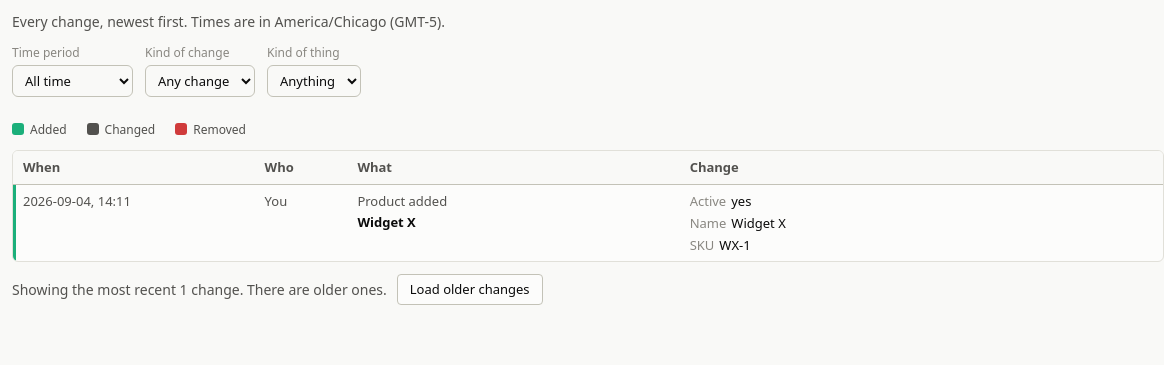
Scenario: the screen never misrepresents how much of the log it is showing › offers older changes when there are more, and fetches them from the last id
Click the button "Load older changes" at (470, 290), box left=397, top=274, right=543, bottom=305
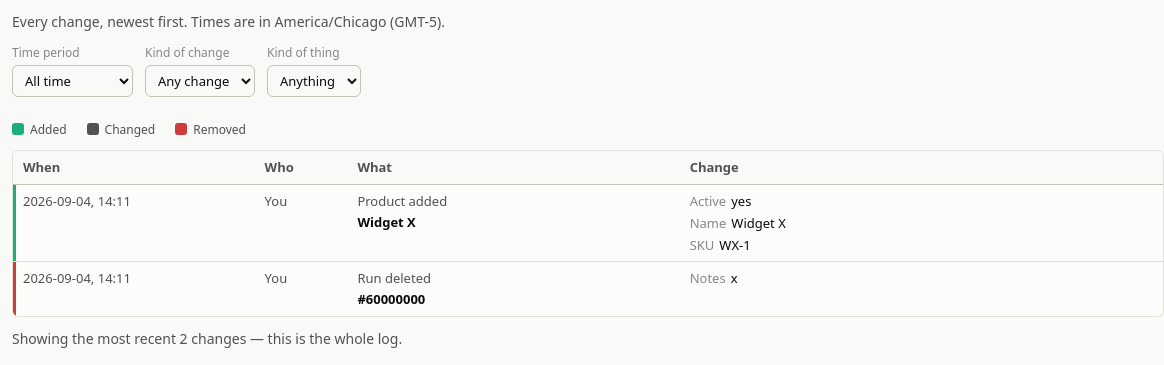
Expected: the text "Product added" is shown, left=357, top=192, right=447, bottom=210
Now the text "Run deleted" is shown, box left=357, top=270, right=431, bottom=288
